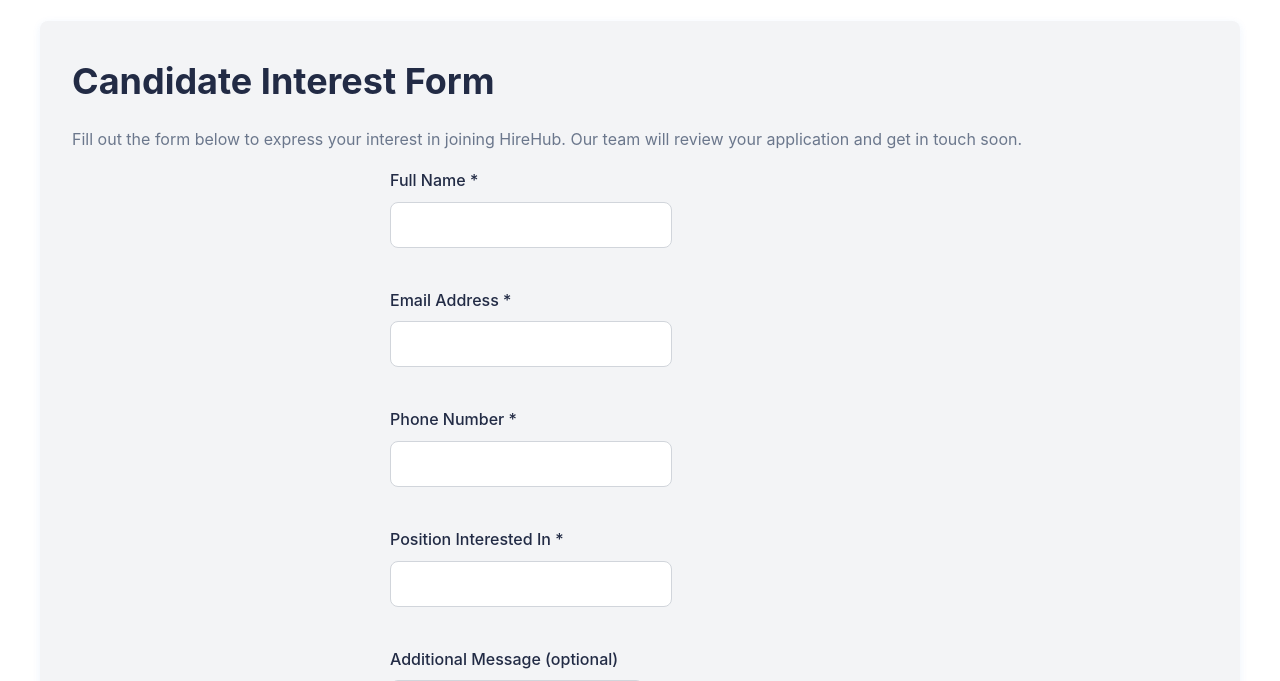
Test case: InterestForm › shows duplicate email error if email already submitted
Type "Bob" into the field labelled "Full Name *" at (531, 225), box [390,202,672,248]
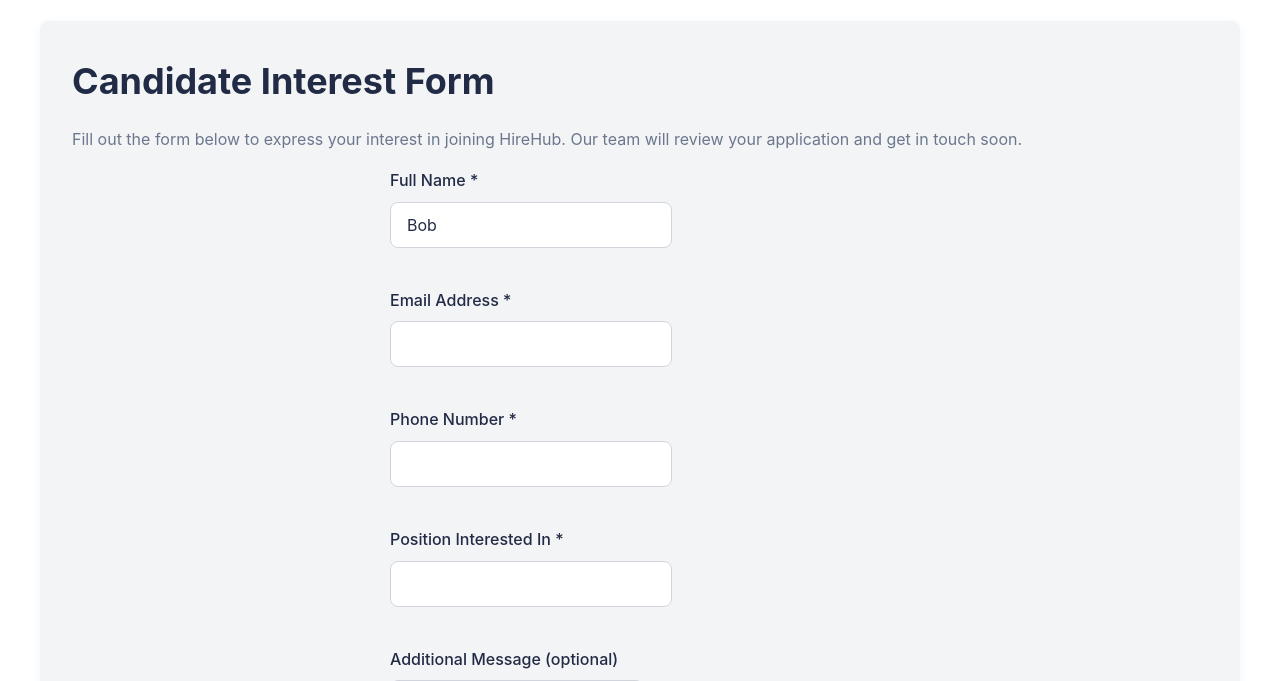
Type "bob@example.com" into the field labelled "Email Address *" at (531, 344), box [390,321,672,367]
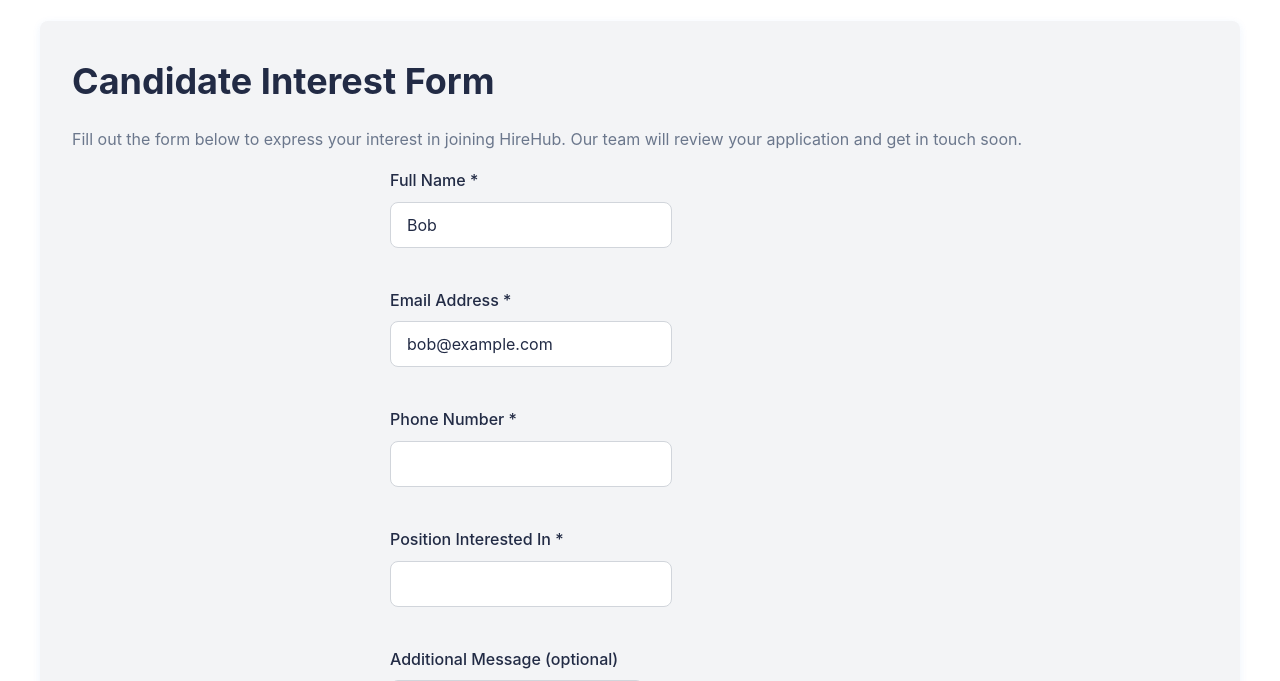
Type "+12345678901" into the field labelled "Phone Number *" at (531, 464), box [390,441,672,487]
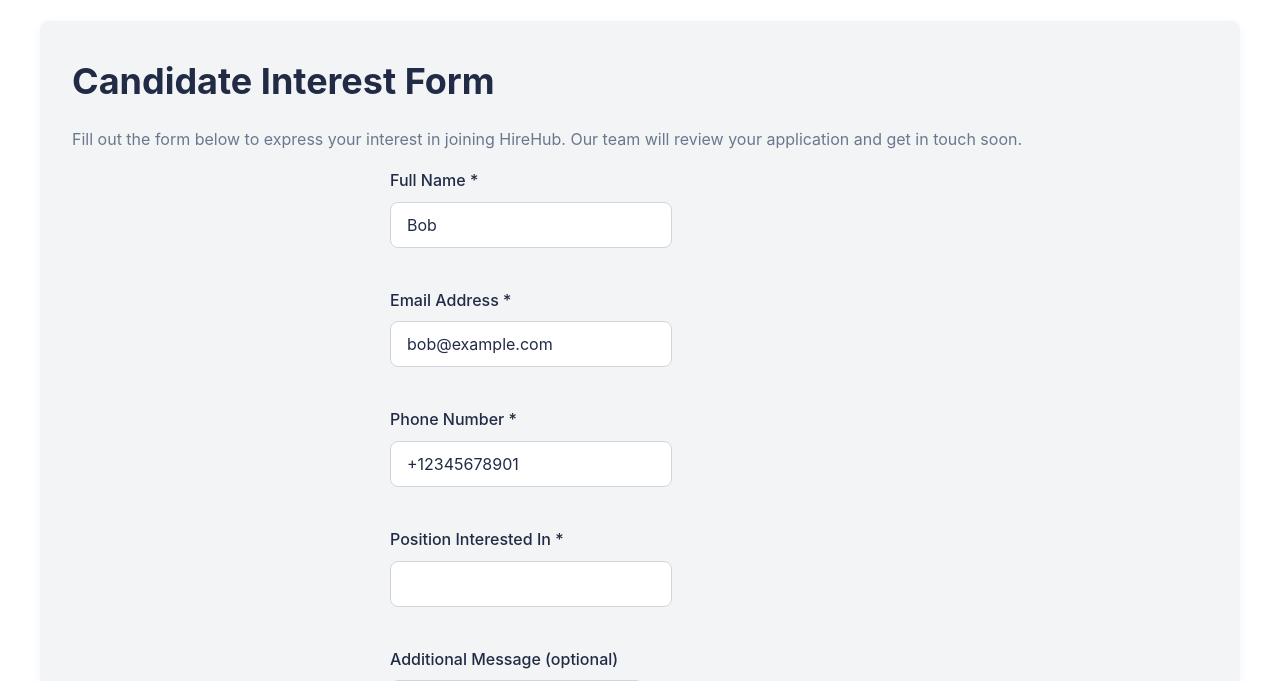
Type "Designer" into the field labelled "Position Interested In *" at (531, 584), box [390,561,672,607]
(page scrolled)
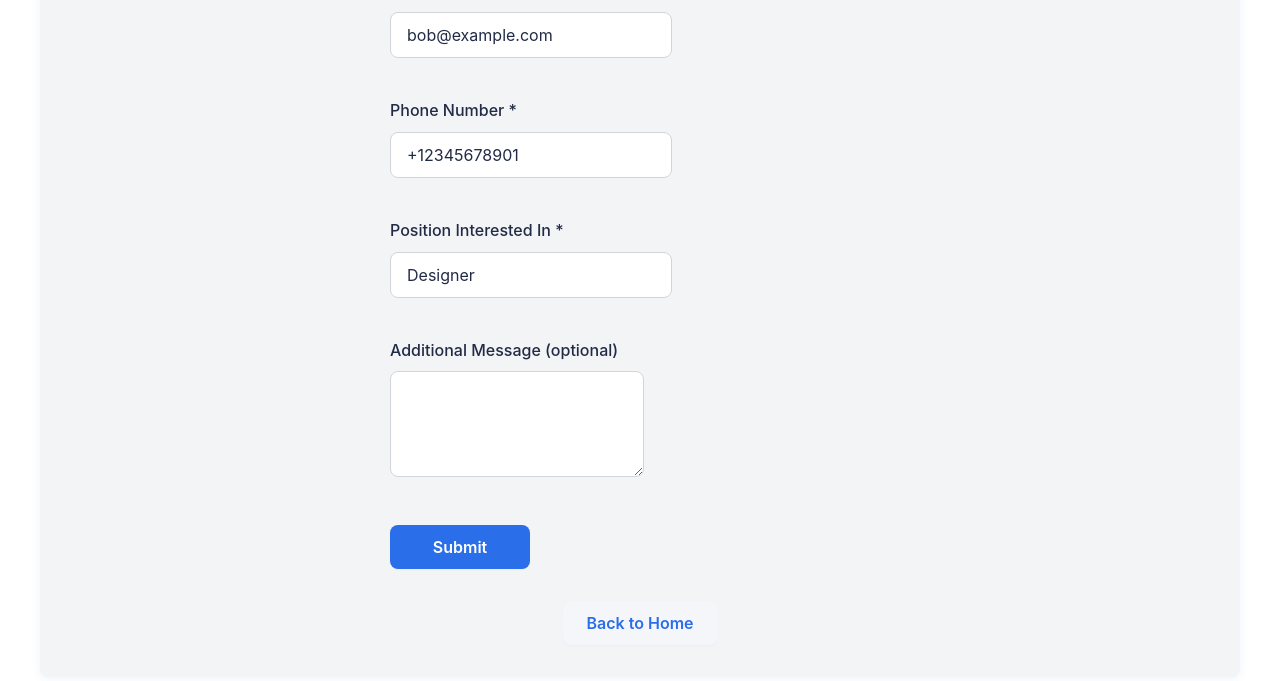
Click the button "Submit" at (460, 547), box [390,525,530,569]
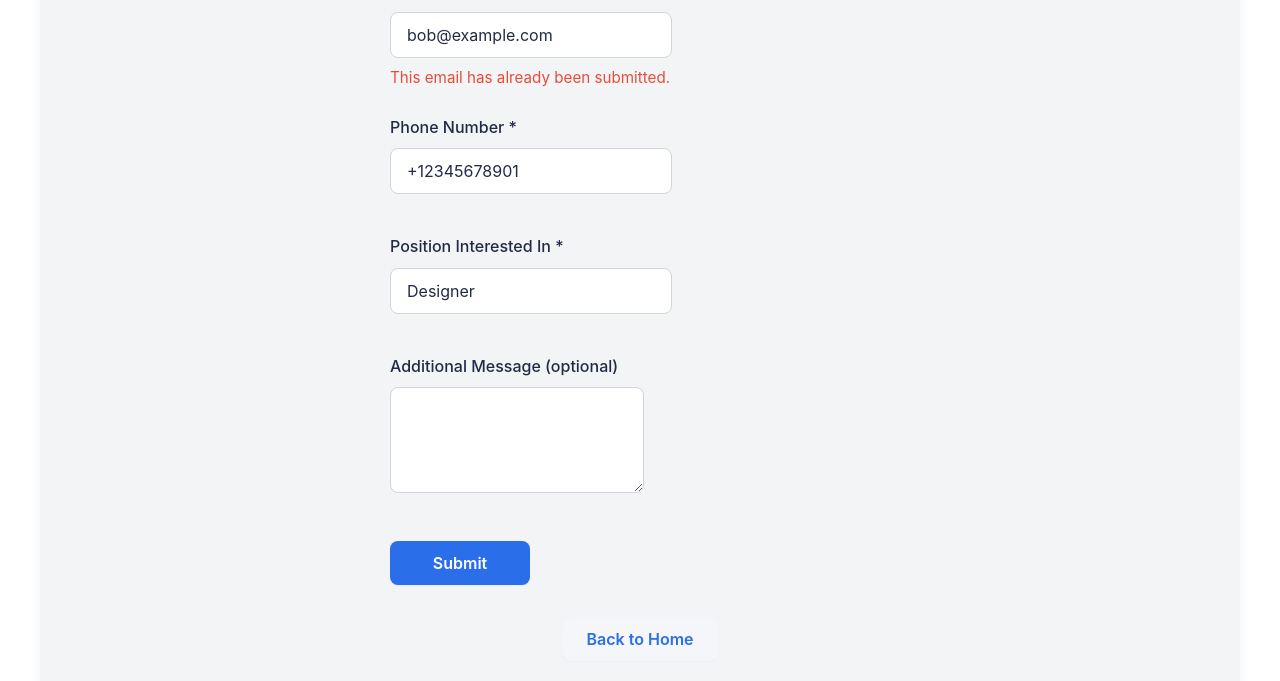
Check: the text "This email has already been submitted." is shown, box [390,68,670,87]
